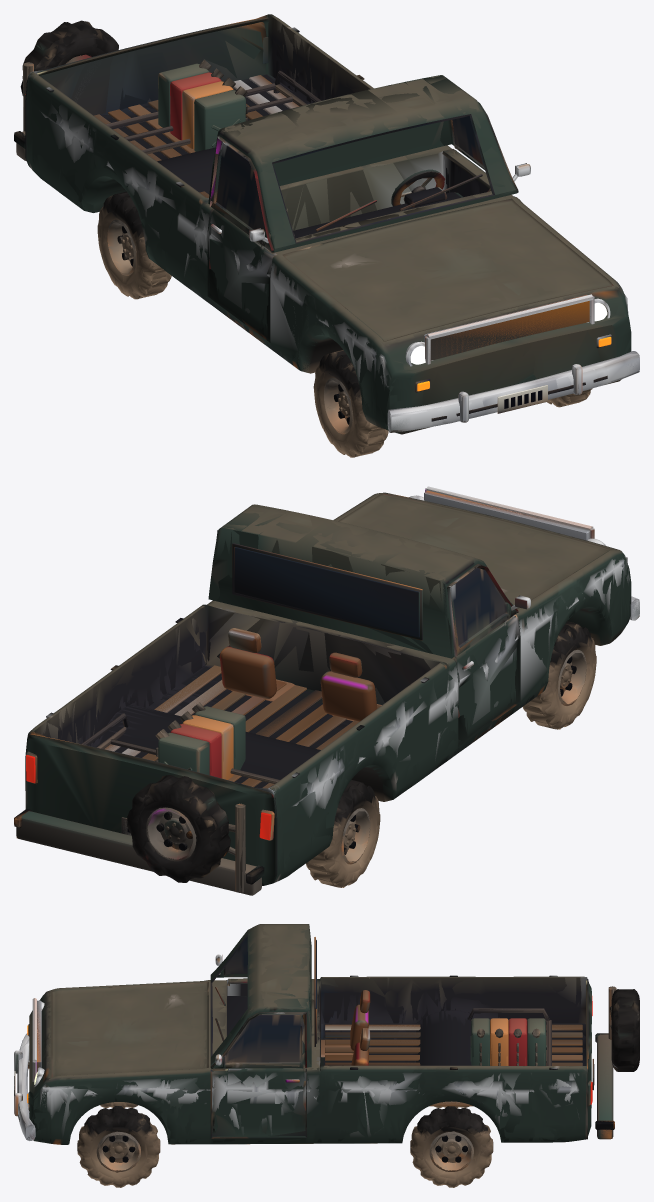
File: Pickup.fbx
The picture shows the model from 3 angles, top to bottom: view 1: azimuth 30°, elevation 25°; view 2: azimuth 150°, elevation 25°; view 3: azimuth 270°, elevation 25°; orthographic projection. The views are drawn at different scales.
Parts seen in each view (by area): view 1: Body, Body__L2, Body__L1, Hood, Hood__L2, Cargo, Hood__L1, Bumper_F, Door_R__L2, Door_R, Wheel_FR__L2, Wheel_RR__L2 (+20 smaller); view 2: Body, Body__L2, Body__L1, Tailgate, Glass, Bumper_R, Hood, Bumper_R__L1, Cargo, Hood__L2, Bumper_R__L2, Door_R__L2 (+13 smaller); view 3: Body, Body__L2, Body__L1, Hood, Hood__L2, Door_L, Cargo, Hood__L1, Door_L__Glass, Door_L__L2, Bumper_R, Wheel_FL (+18 smaller).
Part boxes in pixels (x1,y1,x2,y2): Body: (26, 14, 631, 434); Body__L2: (26, 14, 631, 434); Body__L1: (26, 15, 631, 430); Hood: (282, 198, 613, 341); Hood__L2: (284, 201, 610, 341); Cargo: (106, 60, 320, 153); Hood__L1: (286, 201, 610, 335); Bumper_F: (387, 351, 639, 432); Door_R__L2: (207, 137, 276, 342); Door_R: (207, 136, 275, 341); Wheel_FR__L2: (314, 352, 388, 457); Wheel_RR__L2: (97, 194, 171, 299); Body: (29, 486, 631, 882); Body__L2: (28, 492, 630, 880); Body__L1: (27, 487, 631, 882); Tailgate: (25, 734, 277, 885); Glass: (232, 543, 422, 640); Bumper_R: (14, 775, 264, 895); Hood: (338, 493, 613, 605); Bumper_R__L1: (14, 775, 264, 895); Cargo: (81, 703, 279, 783); Hood__L2: (365, 494, 610, 609); Bumper_R__L2: (14, 775, 264, 895); Door_R__L2: (447, 564, 530, 746); Body: (29, 924, 594, 1144); Body__L2: (29, 924, 588, 1144); Body__L1: (29, 924, 594, 1144); Hood: (51, 981, 208, 1077); Hood__L2: (51, 982, 208, 1076); Door_L: (210, 1012, 306, 1138); Cargo: (469, 1008, 551, 1065); Hood__L1: (51, 982, 208, 1076); Door_L__Glass: (222, 1015, 300, 1064); Door_L__L2: (210, 1012, 306, 1138); Bumper_R: (595, 986, 639, 1139); Wheel_FL: (77, 1106, 160, 1187).
Bounding box in the file's own units: 2.22 × 1.8 × 5.59.
